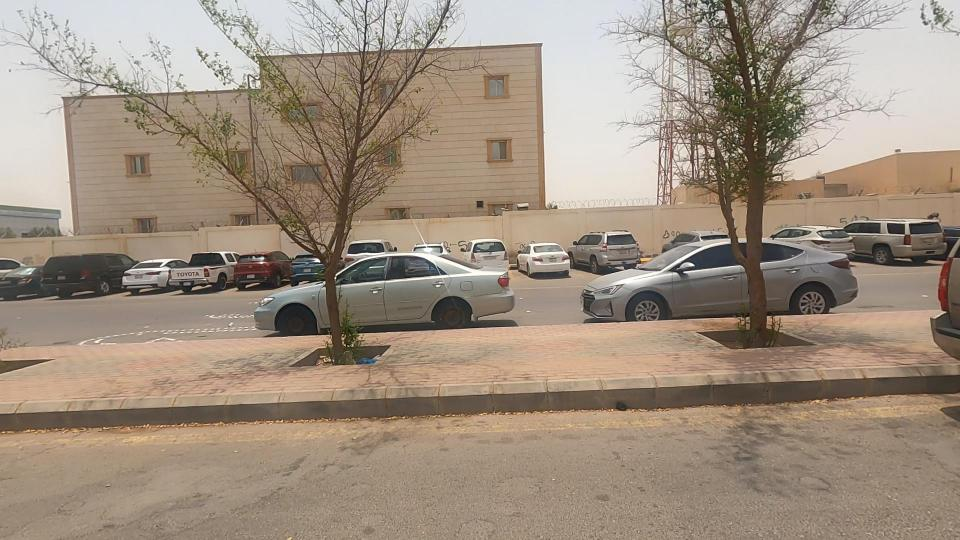GARBAGE: (327, 328, 415, 394)
